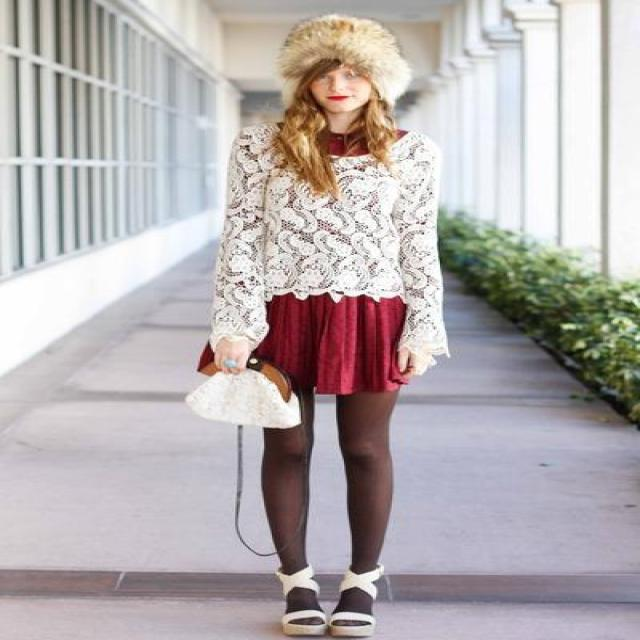bag: (187, 346, 314, 428)
hat: (280, 16, 411, 106)
jacket: (205, 115, 448, 370)
shoe: (277, 565, 382, 639)
skirt: (250, 292, 412, 402)
